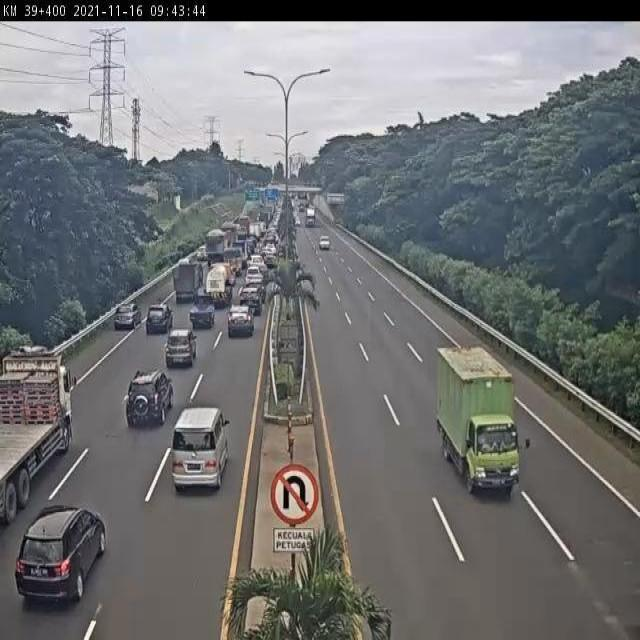Car: (15, 505, 106, 605), (125, 368, 174, 426), (165, 328, 197, 368), (146, 303, 173, 334), (227, 307, 254, 338), (238, 283, 264, 314), (114, 303, 141, 331), (244, 266, 264, 284), (246, 255, 264, 269), (319, 236, 330, 250)
Truck: (0, 342, 78, 528), (436, 346, 532, 497), (204, 262, 235, 310), (172, 258, 203, 304), (189, 300, 216, 330), (204, 229, 226, 264), (223, 247, 243, 276), (220, 220, 236, 248), (248, 221, 261, 240), (305, 207, 316, 227)
Van: (170, 407, 232, 490)
